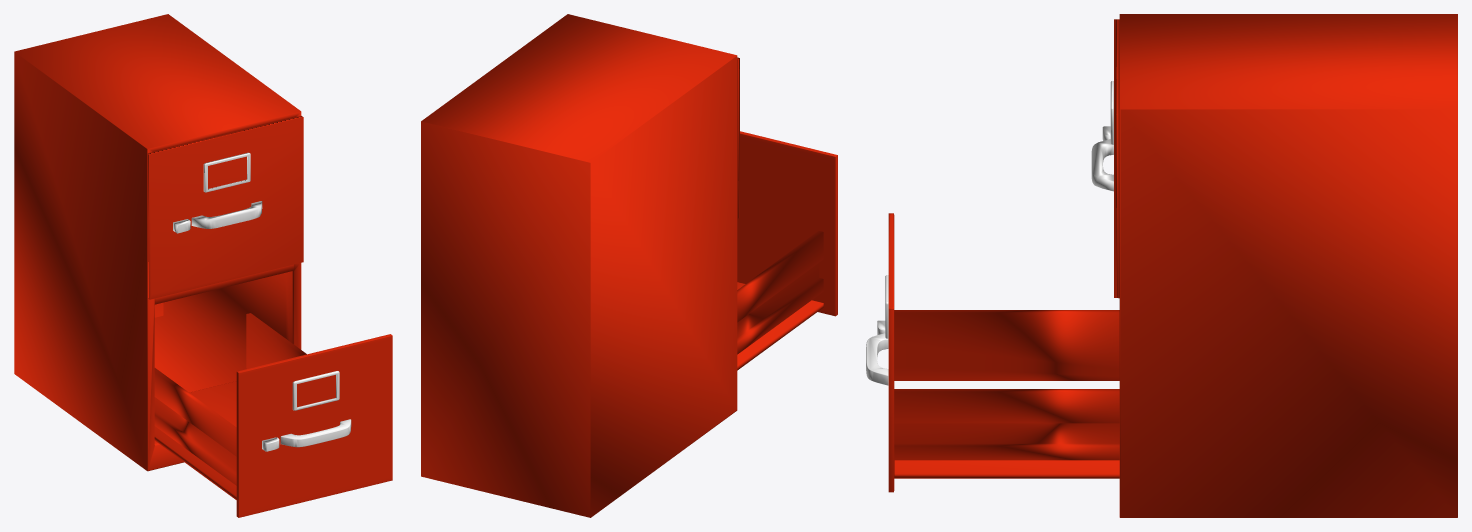
File: filing cabinet.fbx
The picture shows the model from 3 angles, left to right: view 1: azimuth 30°, elevation 25°; view 2: azimuth 150°, elevation 25°; view 3: azimuth 270°, elevation 25°; orthographic projection. The views are drawn at different scales.
Visible parts, largest first — view 1: Body, Bottom drawer front, Top drawer front; view 2: Body, Bottom drawer front, Top drawer front; view 3: Body, Bottom drawer front, Top drawer front.
Boxes of the visible parts, left/top/right/bottom form: Body: left=14, top=14, right=301, bottom=471; Bottom drawer front: left=154, top=313, right=392, bottom=517; Top drawer front: left=147, top=116, right=303, bottom=299; Body: left=421, top=14, right=737, bottom=517; Bottom drawer front: left=737, top=131, right=837, bottom=370; Top drawer front: left=737, top=57, right=739, bottom=219; Body: left=1119, top=14, right=1457, bottom=517; Bottom drawer front: left=866, top=213, right=1119, bottom=492; Top drawer front: left=1091, top=19, right=1119, bottom=298.
Bounding box in the file's own units: 200 × 400 × 525.
